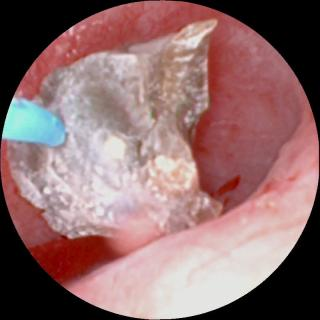fiber: (3, 100, 65, 145)
stone: (9, 22, 221, 237)
tissue: (10, 15, 313, 315)
